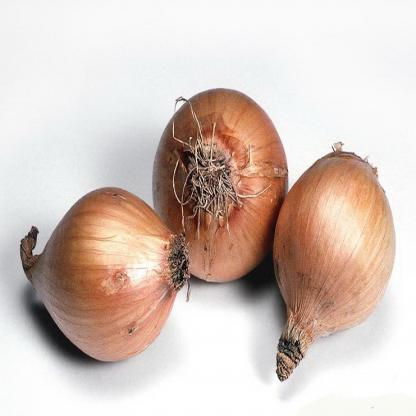onion: (10, 155, 190, 356), (267, 144, 401, 363), (166, 118, 278, 282)
